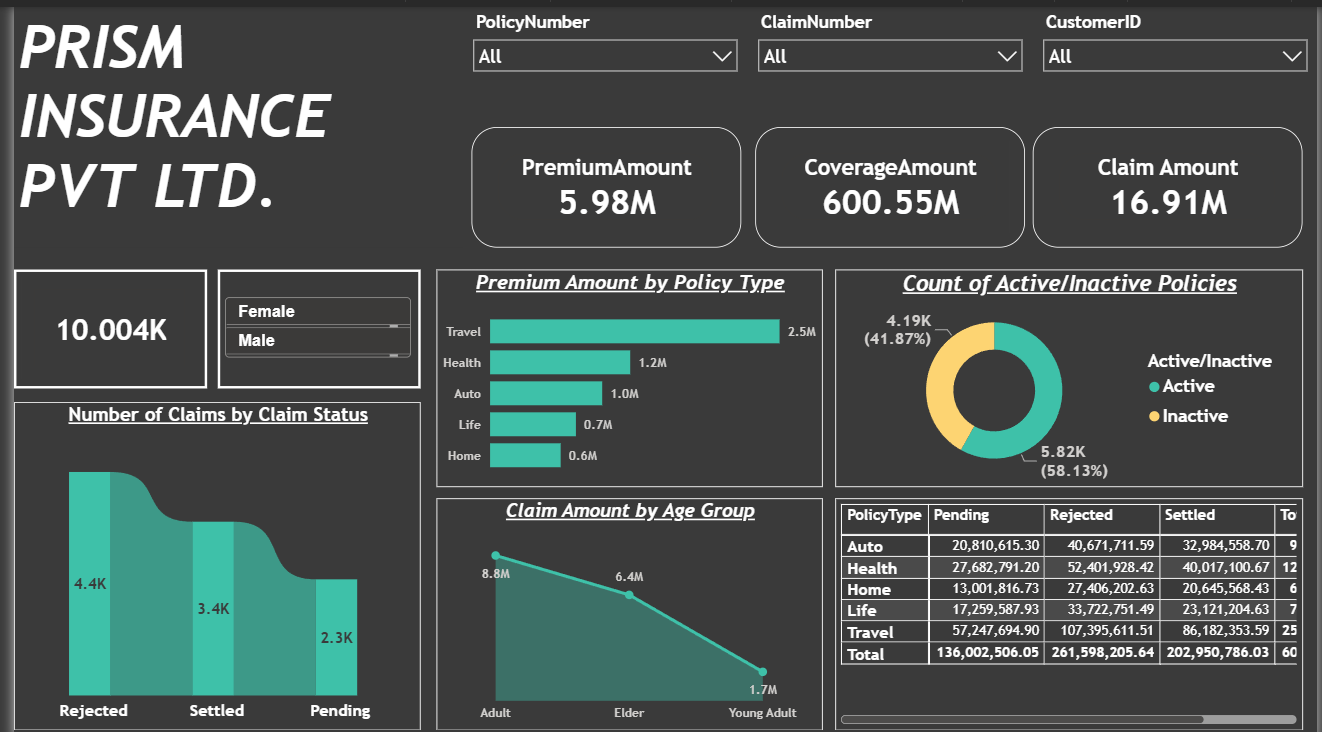

The dashboard page shown, as its layout file describes it:
{"tool":"powerbi","page":{"name":"Dashboard","canvas":[1280,720],"ordinal":0},"visuals":[{"type":"slicer","fields":{"Values":["InsuranceData.PolicyNumber"]},"box":[440.5,0,279.9,107],"z":0},{"type":"slicer","fields":{"Values":["InsuranceData.ClaimNumber"]},"box":[720.4,0,279.9,107],"z":1000},{"type":"slicer","fields":{"Values":["InsuranceData.CustomerID"]},"box":[1000.3,0,279.9,107],"z":2000},{"type":"textbox","box":[0,0,440.5,236],"z":3000},{"type":"cardVisual","fields":{"Data":["Sum(InsuranceData.PremiumAmount)"]},"box":[448.7,118,264.8,118],"z":4000},{"type":"cardVisual","fields":{"Data":["Sum(InsuranceData.CoverageAmount)"]},"box":[727.3,118,264.8,118],"z":5000},{"type":"cardVisual","fields":{"Data":["Sum(InsuranceData.ClaimAmount)"]},"box":[1000.3,118,264.8,118],"z":6000},{"type":"cardVisual","fields":{"Data":["CountNonNull(InsuranceData.Gender)"]},"box":[0,258,189.4,116.6],"z":7000},{"type":"cardVisual","fields":{"Rows":["InsuranceData.Gender"]},"box":[200.3,258,199,116.6],"z":8000},{"type":"ribbonChart","title":"Number of Claims by Claim Status","fields":{"Category":["InsuranceData.ClaimStatus"],"Y":["CountNonNull(InsuranceData.ClaimStatus)"]},"box":[0,388.3,399.3,322.5],"z":9000},{"type":"barChart","title":"Premium Amount by Policy Type","fields":{"Category":["InsuranceData.PolicyType"],"Y":["Sum(InsuranceData.PremiumAmount)"]},"box":[414.7,257.7,379.1,213.5],"z":10000},{"type":"lineChart","title":" Claim Amount by Age Group","fields":{"Category":["InsuranceData.Age Group"],"Y":["Sum(InsuranceData.ClaimAmount)"]},"box":[414.7,482.2,379.1,228.2],"z":11000},{"type":"donutChart","title":"Count of Active/Inactive Policies","fields":{"Category":["InsuranceData.Active/Inactive"],"Y":["CountNonNull(InsuranceData.Active/Inactive)"]},"box":[806.1,257.7,458.9,213.5],"z":12000},{"type":"pivotTable","fields":{"Values":["Sum(InsuranceData.CoverageAmount)"],"Rows":["InsuranceData.PolicyType"],"Columns":["InsuranceData.ClaimStatus"]},"box":[806,482,459,228],"z":13000}]}

Visuals, with their boxes in screenshot pixels (x1, y1, x2, y2), scaled from the page's 1280x720 canvas onto the 1322x732 screenshot:
slicer - InsuranceData.PolicyNumber: [left=455, top=0, right=744, bottom=109]
slicer - InsuranceData.ClaimNumber: [left=744, top=0, right=1033, bottom=109]
slicer - InsuranceData.CustomerID: [left=1033, top=0, right=1321, bottom=109]
textbox: [left=0, top=0, right=455, bottom=240]
cardVisual - Sum(InsuranceData.PremiumAmount): [left=463, top=120, right=737, bottom=240]
cardVisual - Sum(InsuranceData.CoverageAmount): [left=751, top=120, right=1025, bottom=240]
cardVisual - Sum(InsuranceData.ClaimAmount): [left=1033, top=120, right=1307, bottom=240]
cardVisual - CountNonNull(InsuranceData.Gender): [left=0, top=262, right=196, bottom=381]
cardVisual - InsuranceData.Gender: [left=207, top=262, right=412, bottom=381]
"Number of Claims by Claim Status" ribbonChart: [left=0, top=395, right=412, bottom=723]
"Premium Amount by Policy Type" barChart: [left=428, top=262, right=820, bottom=479]
" Claim Amount by Age Group" lineChart: [left=428, top=490, right=820, bottom=722]
"Count of Active/Inactive Policies" donutChart: [left=833, top=262, right=1307, bottom=479]
pivotTable - Sum(InsuranceData.CoverageAmount) x InsuranceData.PolicyType: [left=832, top=490, right=1307, bottom=722]
